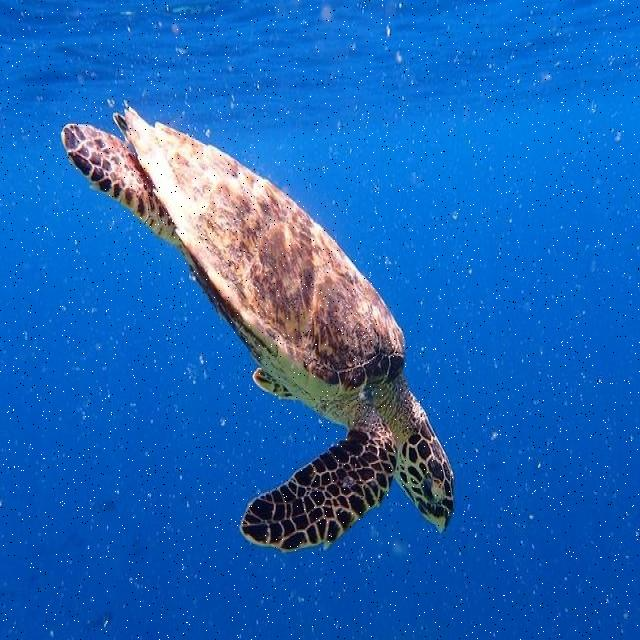fish: (61, 102, 458, 556)
